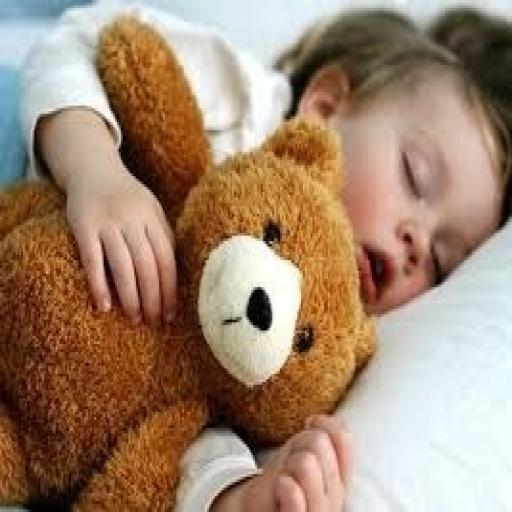sleeping: (2, 0, 510, 509)
